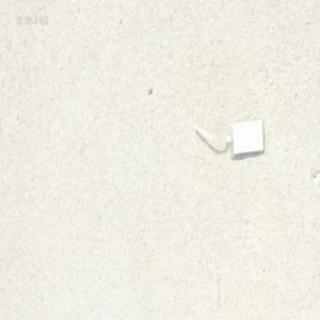LuggageTagtrack_idkeyframe: (192, 113, 265, 158)
